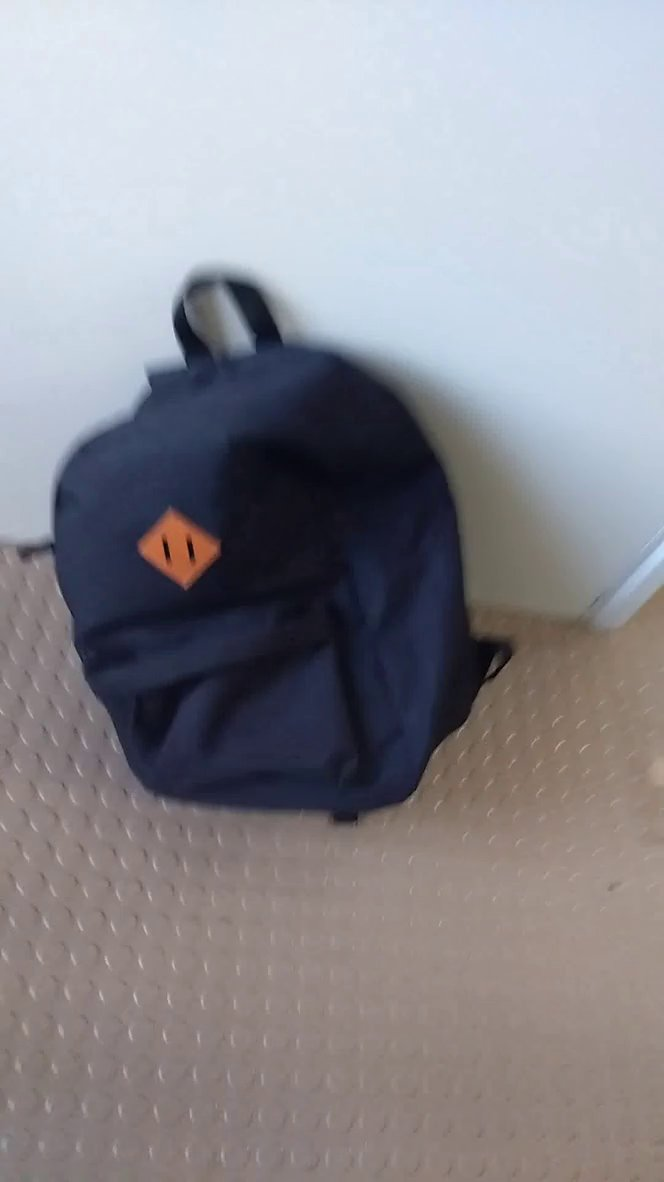bag: (9, 252, 554, 845)
